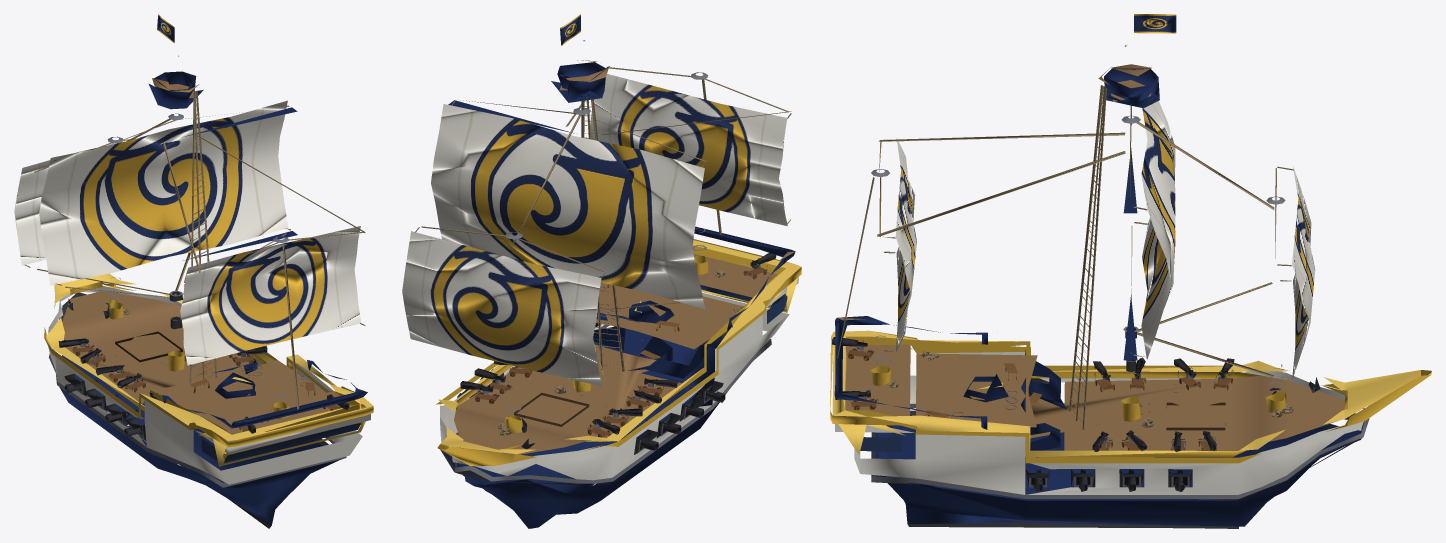
Rendered from frigate.glb.
The picture shows the model from 3 angles, left to right: view 1: azimuth 30°, elevation 25°; view 2: azimuth 150°, elevation 25°; view 3: azimuth 270°, elevation 25°; orthographic projection. The views are drawn at different scales.
Parts seen in each view (by area): view 1: SM_Galleon_M_Sail_02_0, SM_Galleon_M_Metal_Dark_0; view 2: SM_Galleon_M_Sail_02_0, SM_Galleon_M_Metal_Dark_0; view 3: SM_Galleon_M_Metal_Dark_0, SM_Galleon_M_Sail_02_0.
Boxes of the visible parts, x1,y1,x2,y2 form: SM_Galleon_M_Sail_02_0: (14,14,361,365); SM_Galleon_M_Metal_Dark_0: (25,55,373,528); SM_Galleon_M_Sail_02_0: (402,14,787,386); SM_Galleon_M_Metal_Dark_0: (415,40,801,528); SM_Galleon_M_Metal_Dark_0: (830,45,1431,528); SM_Galleon_M_Sail_02_0: (895,14,1315,379).
Size of the model in its own units: 20.58 by 35.84 by 38.
Materials: 2 (2 with a texture image).
